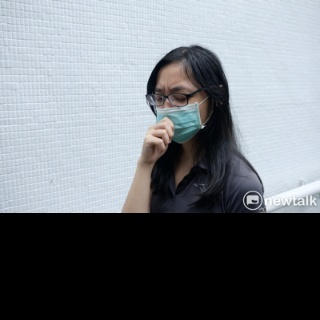with_mask: (152, 84, 206, 146)
